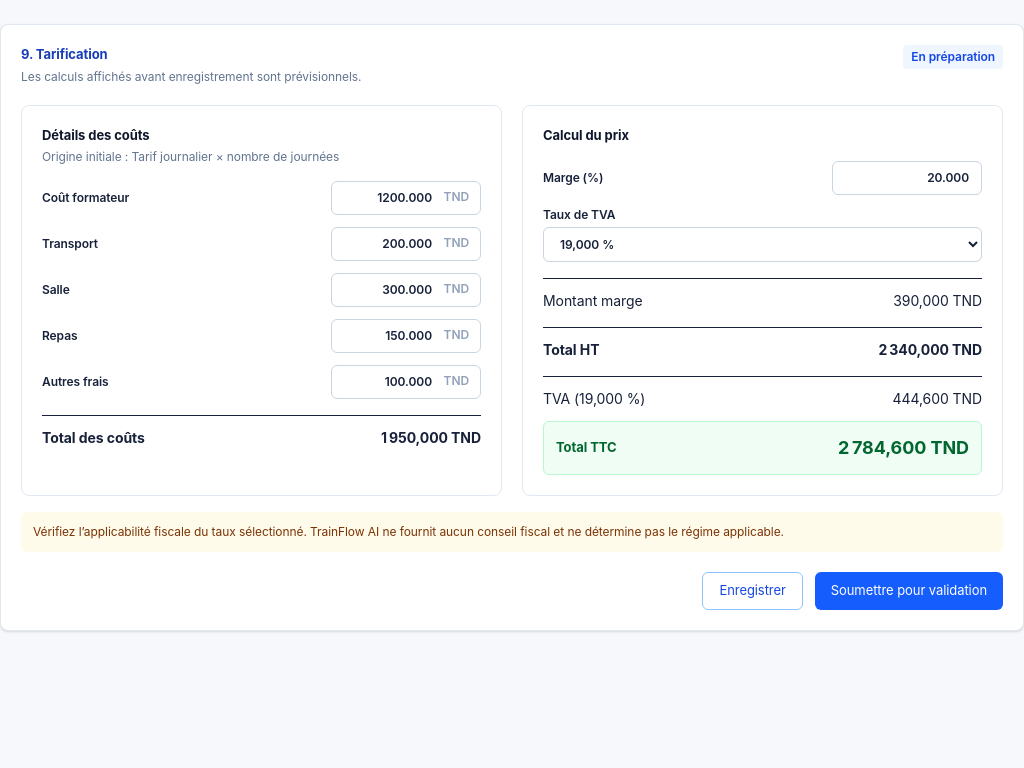
Scenario: Tarification › calcule immédiatement les montants corrigés à trois décimales
The width and height of the screenshot is (1024, 768).
Expected: the field showing "1200.000" is shown, [331,181,481,215]
Expected: the text "390,000 TND" is shown, [893,291,982,311]
Step 1. Replace the text in the field labelled "Transport" with "250.000" → (406, 244), box [331,227,481,261]
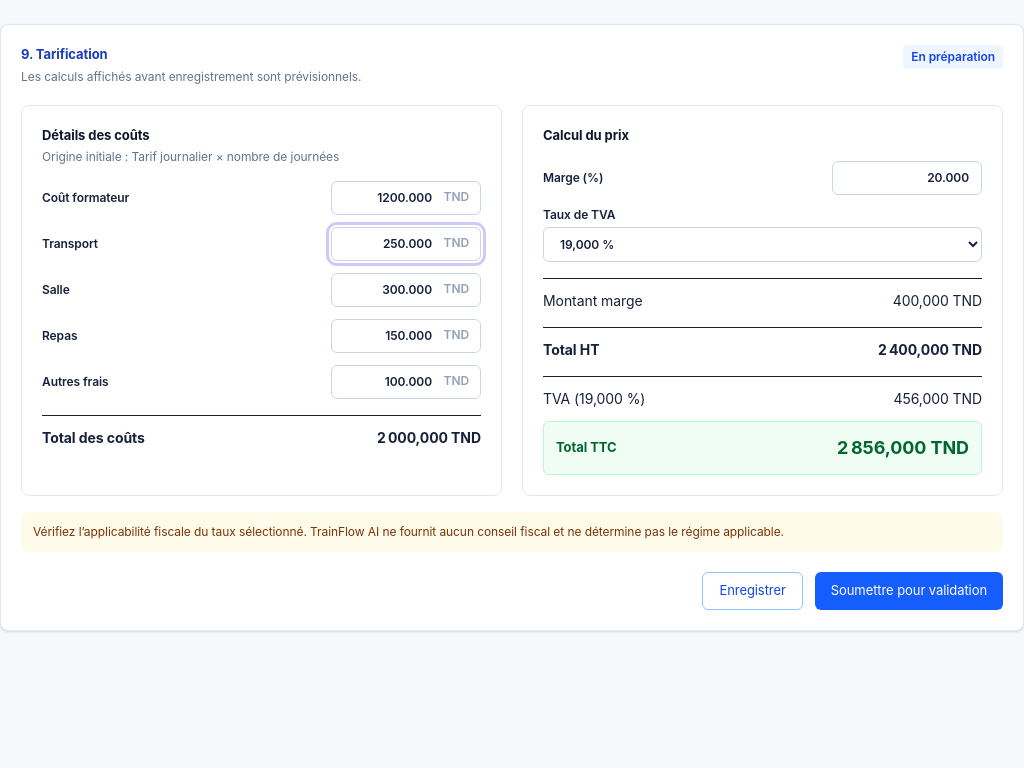
Now the text "2 000,000 TND" is shown, box [377,428,481,448]
Now the text "400,000 TND" is shown, box [893,291,982,311]
